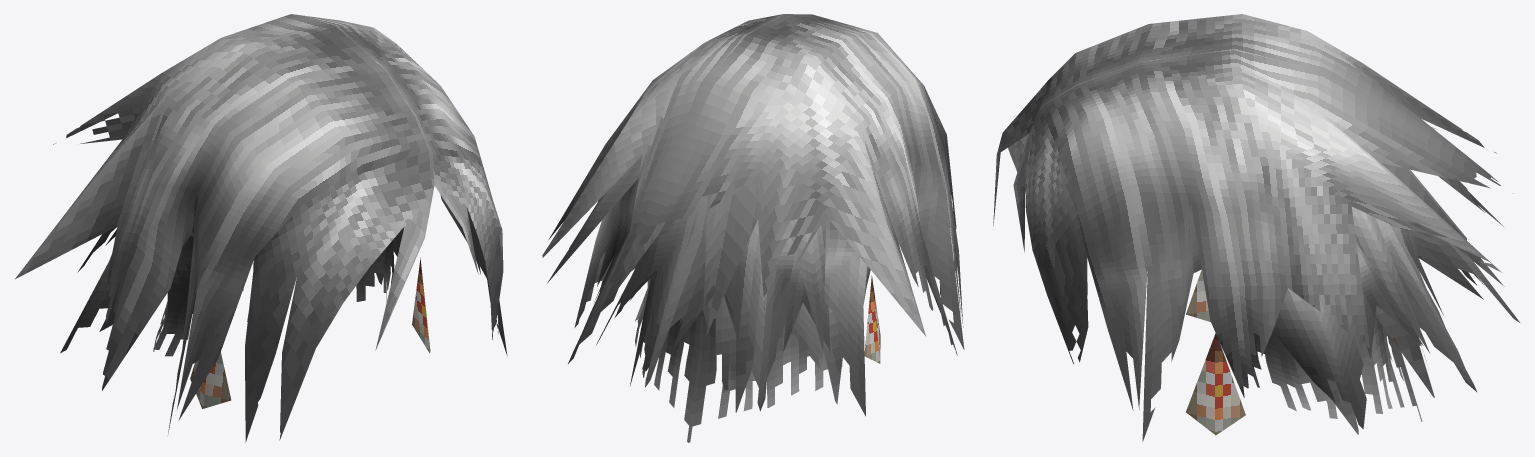
The model's file is f_hair001.obj.
3 views of the same model, side by side, from view 1: azimuth 30°, elevation 25°; view 2: azimuth 150°, elevation 25°; view 3: azimuth 270°, elevation 25° (orthographic). The views are drawn at different scales.
Visible parts, largest first — view 1: editpl_f-0000-1898, editpl_f-0000-1899; view 2: editpl_f-0000-1898, editpl_f-0000-1899; view 3: editpl_f-0000-1898, editpl_f-0000-1899.
Part boxes in pixels (bbox=[...]): editpl_f-0000-1898: bbox=[15, 14, 507, 442]; editpl_f-0000-1899: bbox=[190, 258, 430, 408]; editpl_f-0000-1898: bbox=[542, 14, 964, 442]; editpl_f-0000-1899: bbox=[864, 275, 880, 363]; editpl_f-0000-1898: bbox=[993, 14, 1519, 441]; editpl_f-0000-1899: bbox=[1186, 269, 1245, 435].
Bounding box in the file's own units: 28.72 × 25.21 × 31.18.
